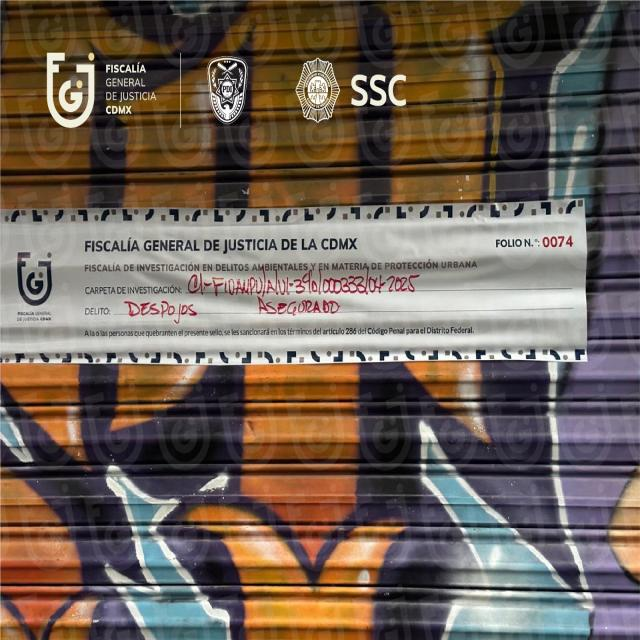stamps: (1, 203, 583, 362), (47, 53, 94, 128)
